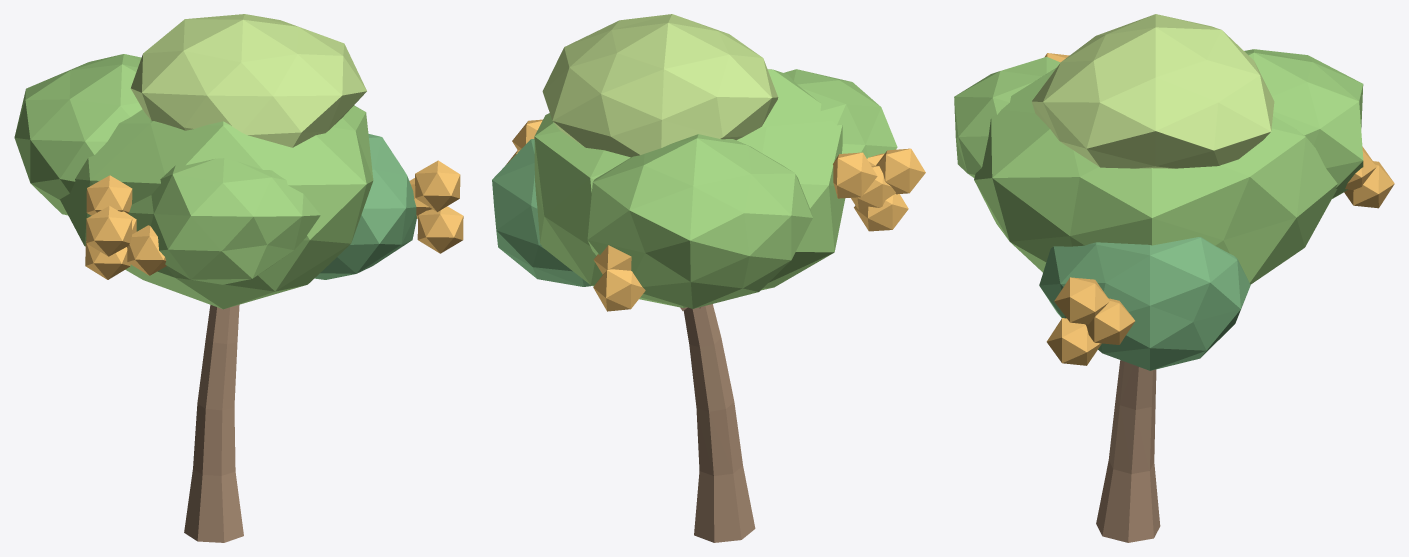
File: laranjeira_0.fbx
3 views of the same model, side by side, from view 1: azimuth 30°, elevation 25°; view 2: azimuth 150°, elevation 25°; view 3: azimuth 270°, elevation 25° (orthographic). The views are drawn at different scales.
Visible parts, largest first — view 1: laranjeira_0~Copa 0@leaf, laranjeira_0~Copa 4@leaflight, laranjeira_0~Copa 3@leaf, laranjeira_0~Copa 2@leaf, laranjeira_0~Tronco@bark, laranjeira_0~Copa 1@leafdark, laranjeira_0~Fruta 8@orange, laranjeira_0~Fruta 5@orange, laranjeira_0~Fruta 7@orange, laranjeira_0~Fruta 2@orange, laranjeira_0~Fruta 9@orange, laranjeira_0~Fruta 4@orange; view 2: laranjeira_0~Copa 2@leaf, laranjeira_0~Copa 4@leaflight, laranjeira_0~Copa 0@leaf, laranjeira_0~Tronco@bark, laranjeira_0~Copa 1@leafdark, laranjeira_0~Copa 3@leaf, laranjeira_0~Fruta 2@orange, laranjeira_0~Fruta 1@orange, laranjeira_0~Fruta 8@orange, laranjeira_0~Fruta 4@orange, laranjeira_0~Fruta 3@orange, laranjeira_0~Fruta 0@orange; view 3: laranjeira_0~Copa 0@leaf, laranjeira_0~Copa 4@leaflight, laranjeira_0~Copa 1@leafdark, laranjeira_0~Copa 2@leaf, laranjeira_0~Tronco@bark, laranjeira_0~Copa 3@leaf, laranjeira_0~Fruta 5@orange, laranjeira_0~Fruta 7@orange, laranjeira_0~Fruta 6@orange, laranjeira_0~Fruta 1@orange, laranjeira_0~Fruta 0@orange.
Boxes of the visible parts, bbox=[...] form: laranjeira_0~Copa 0@leaf: bbox=[60, 105, 373, 309]; laranjeira_0~Copa 4@leaflight: bbox=[130, 14, 366, 147]; laranjeira_0~Copa 3@leaf: bbox=[128, 158, 320, 284]; laranjeira_0~Copa 2@leaf: bbox=[14, 54, 142, 215]; laranjeira_0~Tronco@bark: bbox=[184, 304, 243, 542]; laranjeira_0~Copa 1@leafdark: bbox=[314, 133, 416, 279]; laranjeira_0~Fruta 8@orange: bbox=[86, 206, 132, 256]; laranjeira_0~Fruta 5@orange: bbox=[415, 160, 460, 211]; laranjeira_0~Fruta 7@orange: bbox=[417, 206, 463, 253]; laranjeira_0~Fruta 2@orange: bbox=[86, 175, 132, 215]; laranjeira_0~Fruta 9@orange: bbox=[127, 225, 166, 275]; laranjeira_0~Fruta 4@orange: bbox=[85, 241, 130, 279]; laranjeira_0~Copa 2@leaf: bbox=[587, 134, 812, 308]; laranjeira_0~Copa 4@leaflight: bbox=[542, 14, 778, 157]; laranjeira_0~Copa 0@leaf: bbox=[534, 69, 845, 307]; laranjeira_0~Tronco@bark: bbox=[683, 304, 755, 542]; laranjeira_0~Copa 1@leafdark: bbox=[492, 139, 591, 286]; laranjeira_0~Copa 3@leaf: bbox=[784, 69, 897, 158]; laranjeira_0~Fruta 2@orange: bbox=[833, 152, 877, 198]; laranjeira_0~Fruta 1@orange: bbox=[593, 269, 645, 311]; laranjeira_0~Fruta 8@orange: bbox=[876, 148, 925, 194]; laranjeira_0~Fruta 4@orange: bbox=[854, 193, 908, 231]; laranjeira_0~Fruta 3@orange: bbox=[851, 165, 895, 209]; laranjeira_0~Fruta 0@orange: bbox=[593, 245, 631, 274]; laranjeira_0~Copa 0@leaf: bbox=[974, 67, 1337, 284]; laranjeira_0~Copa 4@leaflight: bbox=[1031, 14, 1274, 168]; laranjeira_0~Copa 1@leafdark: bbox=[1039, 237, 1250, 370]; laranjeira_0~Copa 2@leaf: bbox=[1244, 49, 1363, 198]; laranjeira_0~Tronco@bark: bbox=[1096, 360, 1160, 542]; laranjeira_0~Copa 3@leaf: bbox=[954, 56, 1060, 177]; laranjeira_0~Fruta 5@orange: bbox=[1054, 277, 1109, 324]; laranjeira_0~Fruta 7@orange: bbox=[1046, 318, 1101, 365]; laranjeira_0~Fruta 6@orange: bbox=[1085, 298, 1135, 344]; laranjeira_0~Fruta 1@orange: bbox=[1344, 161, 1394, 208]; laranjeira_0~Fruta 0@orange: bbox=[1345, 146, 1376, 189].
Bounding box in the file's own units: 2.47 × 3.07 × 2.34.
